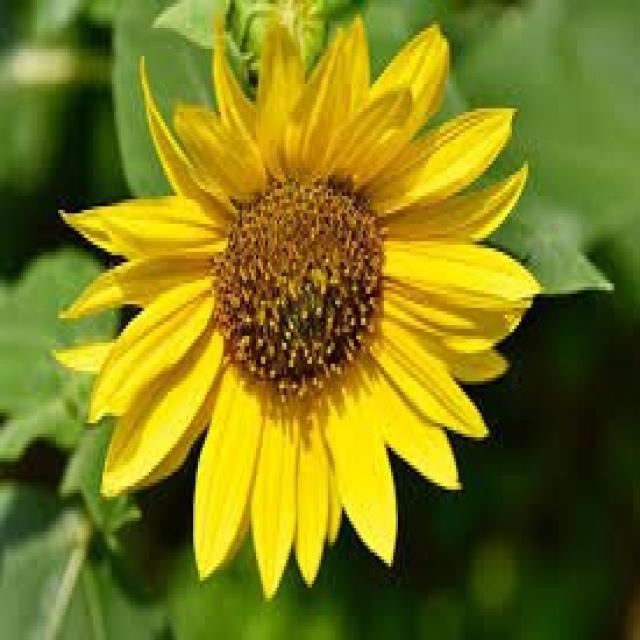sunflower: (52, 5, 544, 607)
